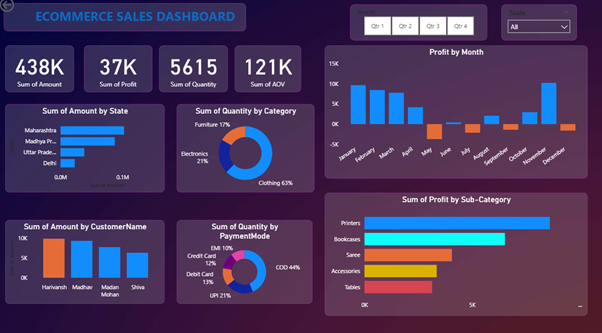

Layout of this report page (visuals, bound fields, positions):
{"tool":"powerbi","page":{"name":"Page 1","canvas":[1280,720],"ordinal":0},"visuals":[{"type":"textbox","box":[13.8,16.6,510.2,59.5],"z":0},{"type":"clusteredColumnChart","title":"Profit by Month","fields":{"Y":["Sum(Details.Profit)"],"Category":["Orders.Order Date.Variation.Date Hierarchy.Month"]},"box":[689.9,106.5,554.4,280.7],"z":1000},{"type":"barChart","fields":{"Category":["Details.Sub-Category"],"Y":["Sum(Details.Profit)"]},"box":[689.9,416.2,554.4,259.9],"z":2000},{"type":"donutChart","fields":{"Category":["Details.Category"],"Y":["Sum(Details.Quantity)"]},"box":[378.8,229.5,290.3,186.7],"z":3000},{"type":"donutChart","fields":{"Category":["Details.PaymentMode","Details.Category"],"Y":["Sum(Details.Quantity)"]},"box":[378.8,474.2,286.2,177],"z":4000},{"type":"card","fields":{"Values":["Sum(Details.Amount)"]},"box":[16.6,106.5,145.2,98.2],"z":5000},{"type":"actionButton","box":[0,0,100,40],"z":6000},{"type":"card","fields":{"Values":["Sum(Details.Profit)"]},"box":[182.5,106.5,143.8,98.2],"z":7000},{"type":"card","fields":{"Values":["Sum(Details.Quantity)"]},"box":[341.5,106.5,145.2,98.2],"z":8000},{"type":"card","fields":{"Values":["Sum(Details.AOV)"]},"box":[500.5,106.5,139.6,98.2],"z":9000},{"type":"barChart","fields":{"Category":["Orders.State"],"Y":["Sum(Details.Amount)"]},"box":[16.6,229.5,336,186.7],"z":10000},{"type":"columnChart","fields":{"Category":["Orders.CustomerName"],"Y":["Sum(Details.Amount)"]},"box":[17,474,336,177],"z":11000},{"type":"slicer","fields":{"Values":["Orders.Order Date.Variation.Date Hierarchy.Quarter"]},"box":[743.8,19.4,289,76],"z":12000},{"type":"slicer","fields":{"Values":["Orders.State"]},"box":[1063.2,19.4,159,76],"z":13000}]}

Visuals, with their boxes in screenshot pixels (x1, y1, x2, y2), scaled from the page's 1280x720 canvas onto the 602x333 screenshot:
textbox: [6,8,246,35]
"Profit by Month" clusteredColumnChart: [324,49,585,179]
barChart - Details.Sub-Category x Sum(Details.Profit): [324,192,585,313]
donutChart - Details.Category x Sum(Details.Quantity): [178,106,315,192]
donutChart - Details.PaymentMode x Details.Category: [178,219,313,301]
card - Sum(Details.Amount): [8,49,76,95]
actionButton: [0,0,47,18]
card - Sum(Details.Profit): [86,49,153,95]
card - Sum(Details.Quantity): [161,49,229,95]
card - Sum(Details.AOV): [235,49,301,95]
barChart - Orders.State x Sum(Details.Amount): [8,106,166,192]
columnChart - Orders.CustomerName x Sum(Details.Amount): [8,219,166,301]
slicer - Orders.Order Date.Variation.Date Hierarchy.Quarter: [350,9,486,44]
slicer - Orders.State: [500,9,575,44]
